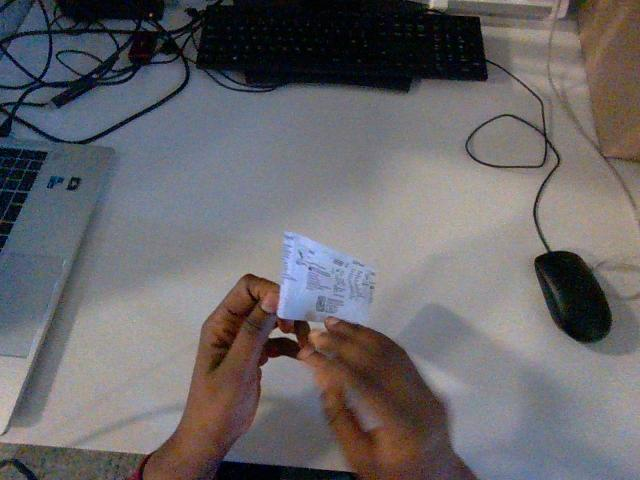syringe: (277, 232, 375, 323)
